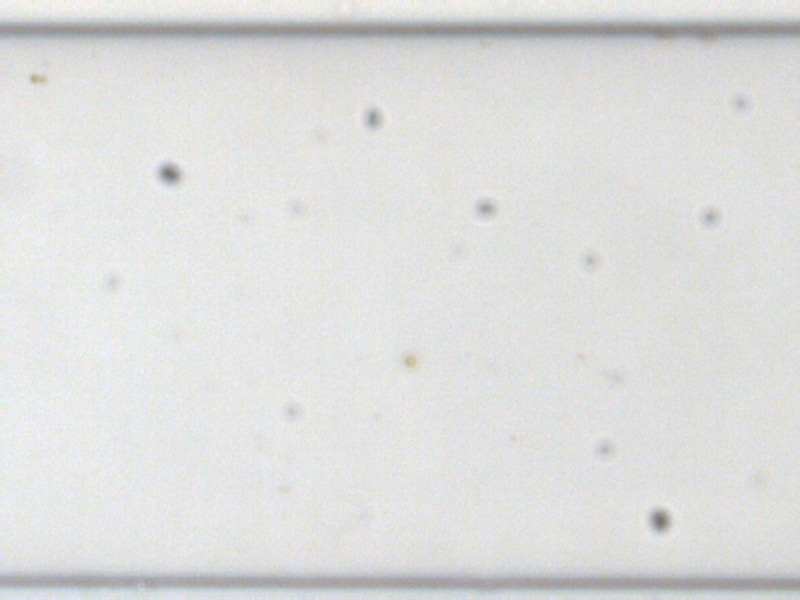Chlorella: (401, 353, 417, 370), (26, 72, 39, 85)
